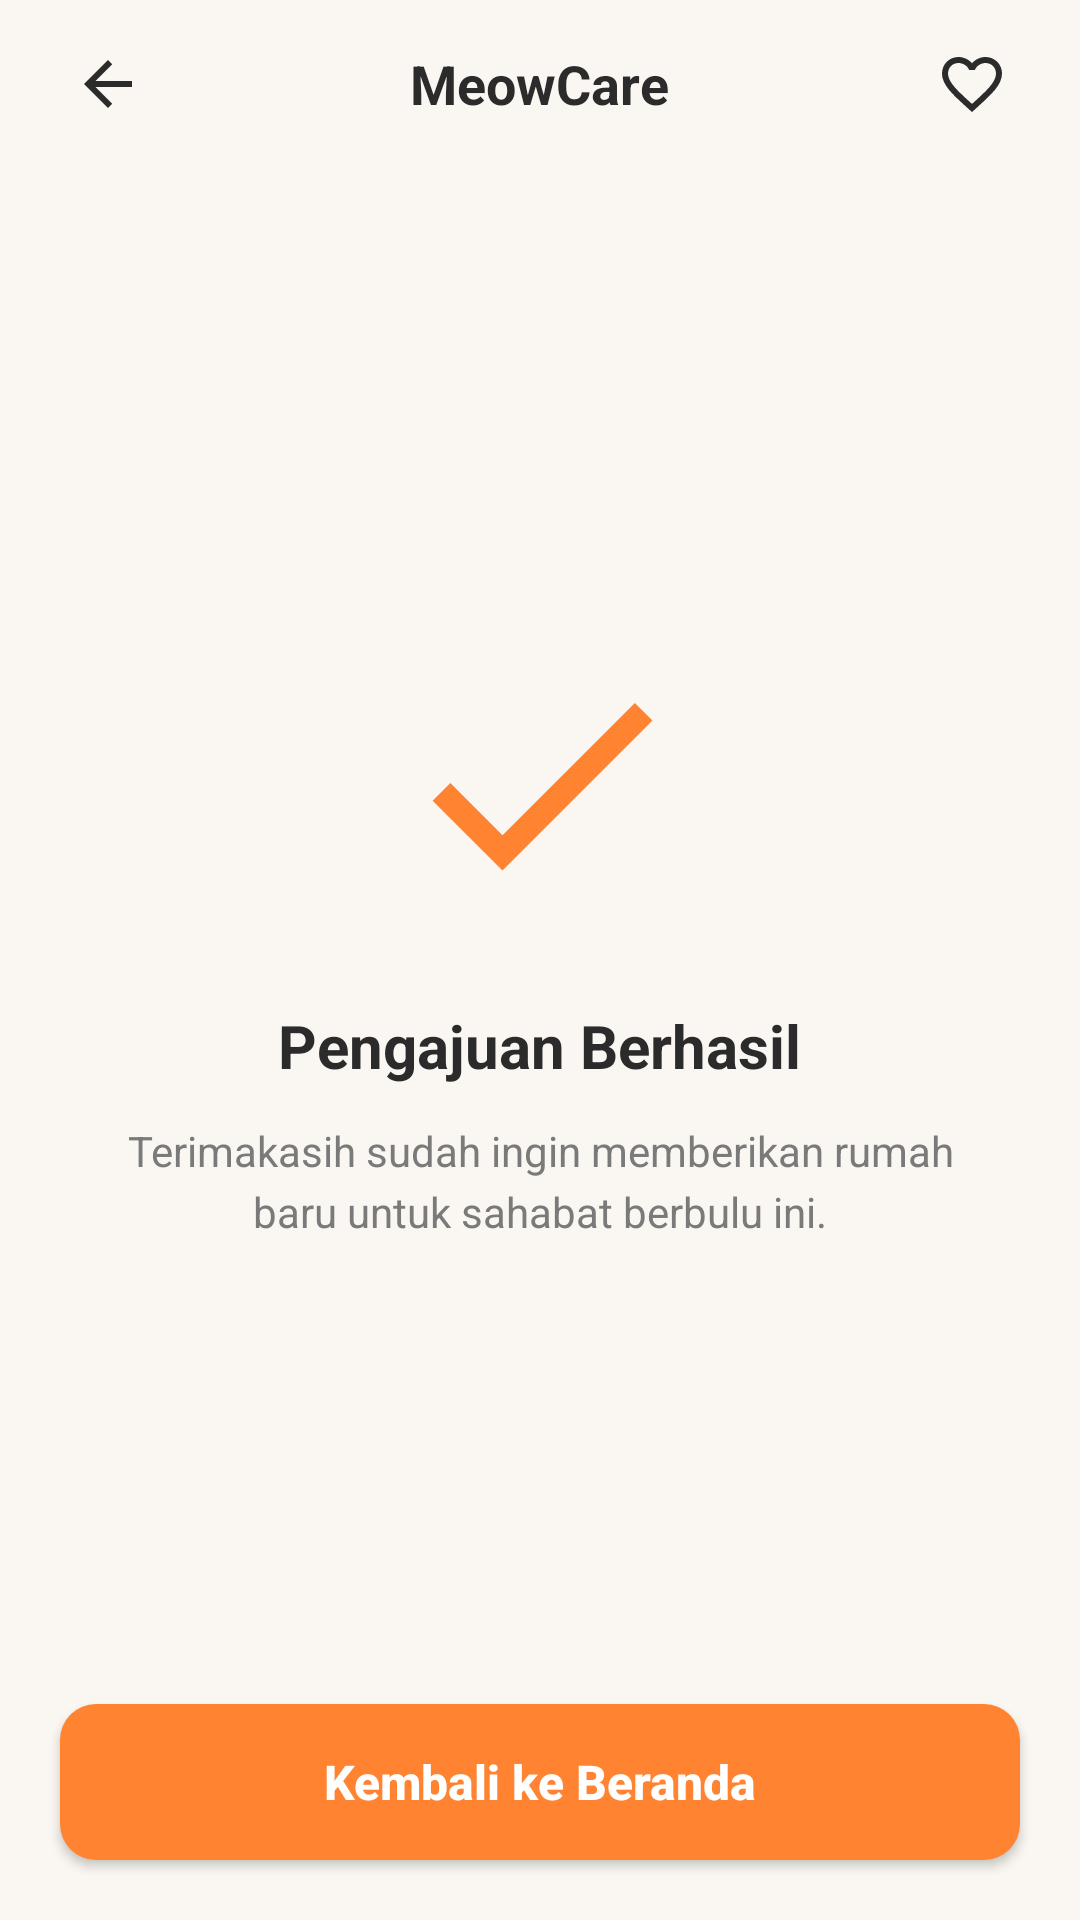

Point at icon controls on the screen. Image size 1080px x 1920px, points as [x,y].
Back: [108,84]
check circle: [542,787]
Favorite: [972,84]
